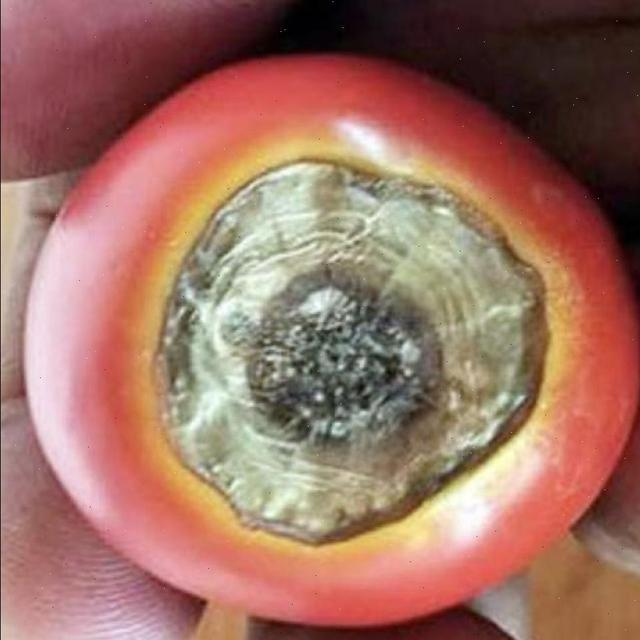Blossom End Rot Fruit: (93, 102, 368, 365)
